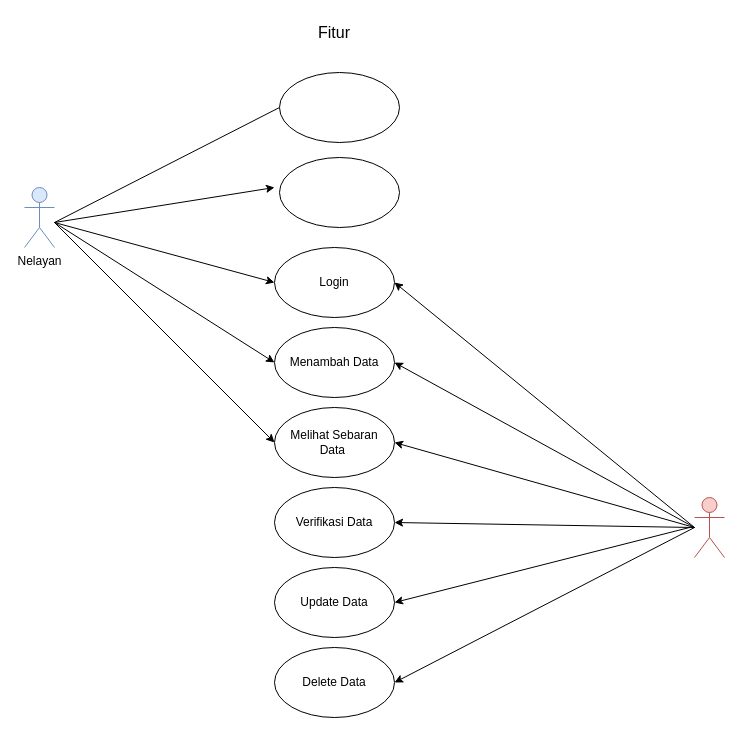
The diagram is 743 pixels wide and 735 high, and some of its shapes have lost their labels. The centre of each missing label's shape, as x and y in pixels:
"Admin" goes at pixel 709 527.
"Mengedit Profile" goes at pixel 339 192.
"Register Akun" goes at pixel 339 107.
